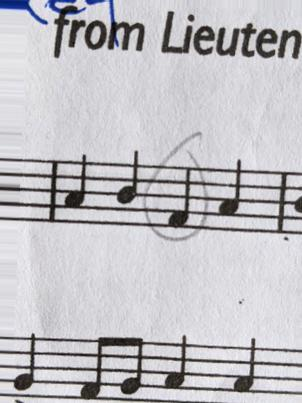A: (229, 333, 261, 402), (62, 152, 89, 229), (219, 156, 244, 237), (165, 331, 187, 402)
B: (112, 145, 141, 240)
F: (164, 159, 197, 237)
G: (11, 327, 43, 402)
